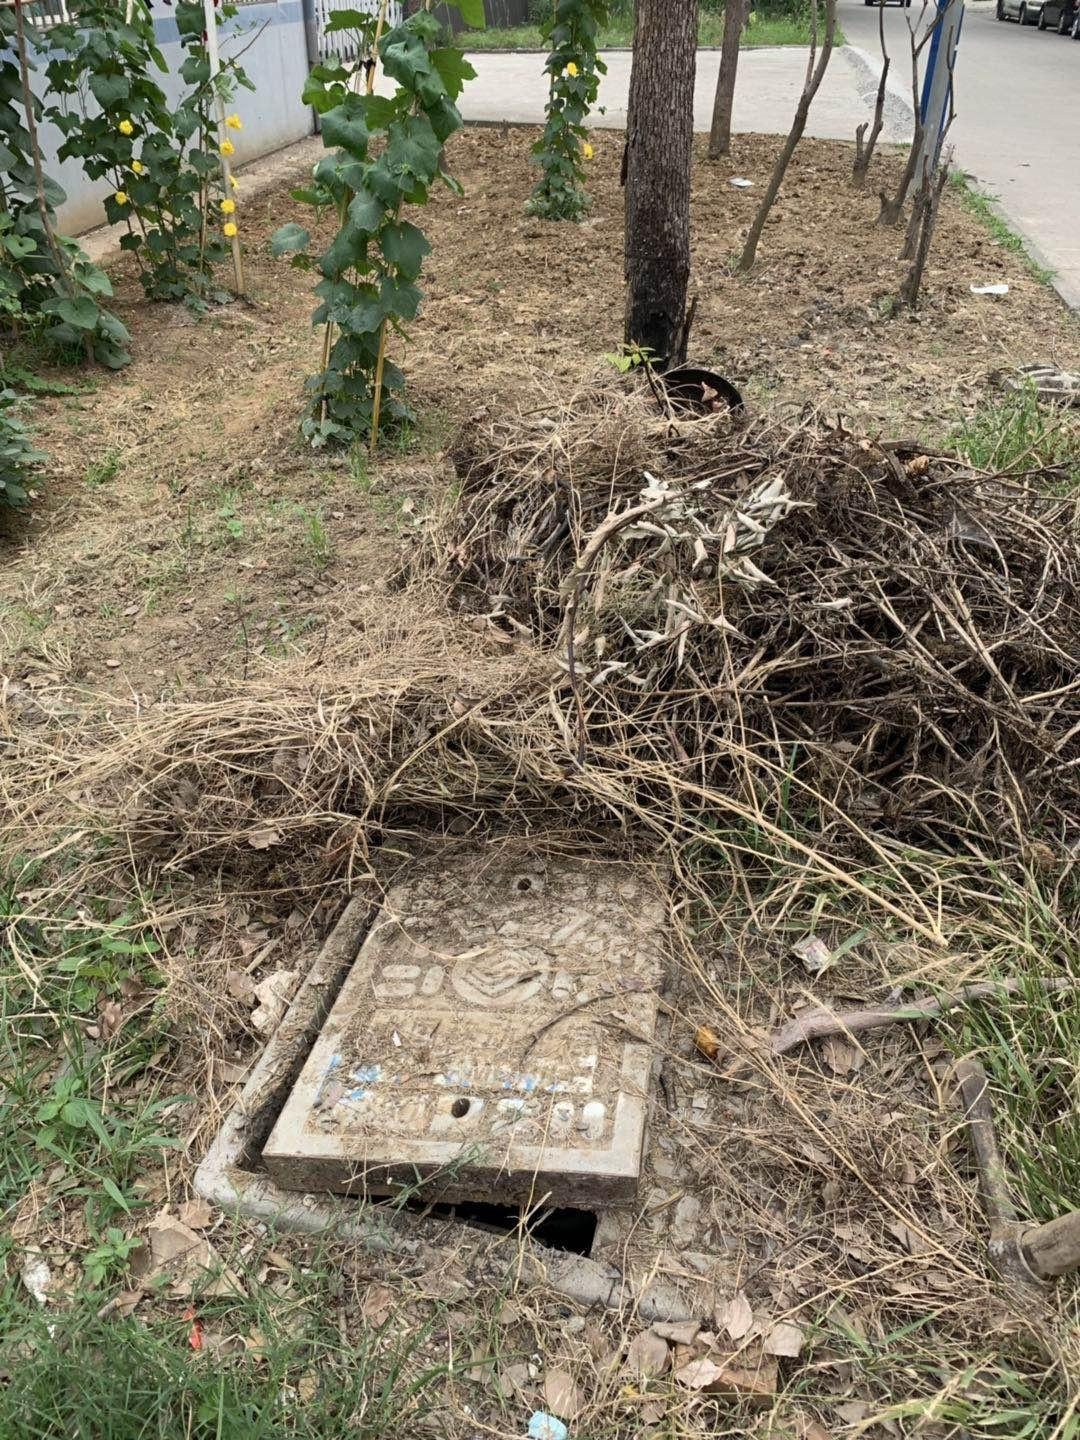wellcover: (216, 794, 683, 1325)
